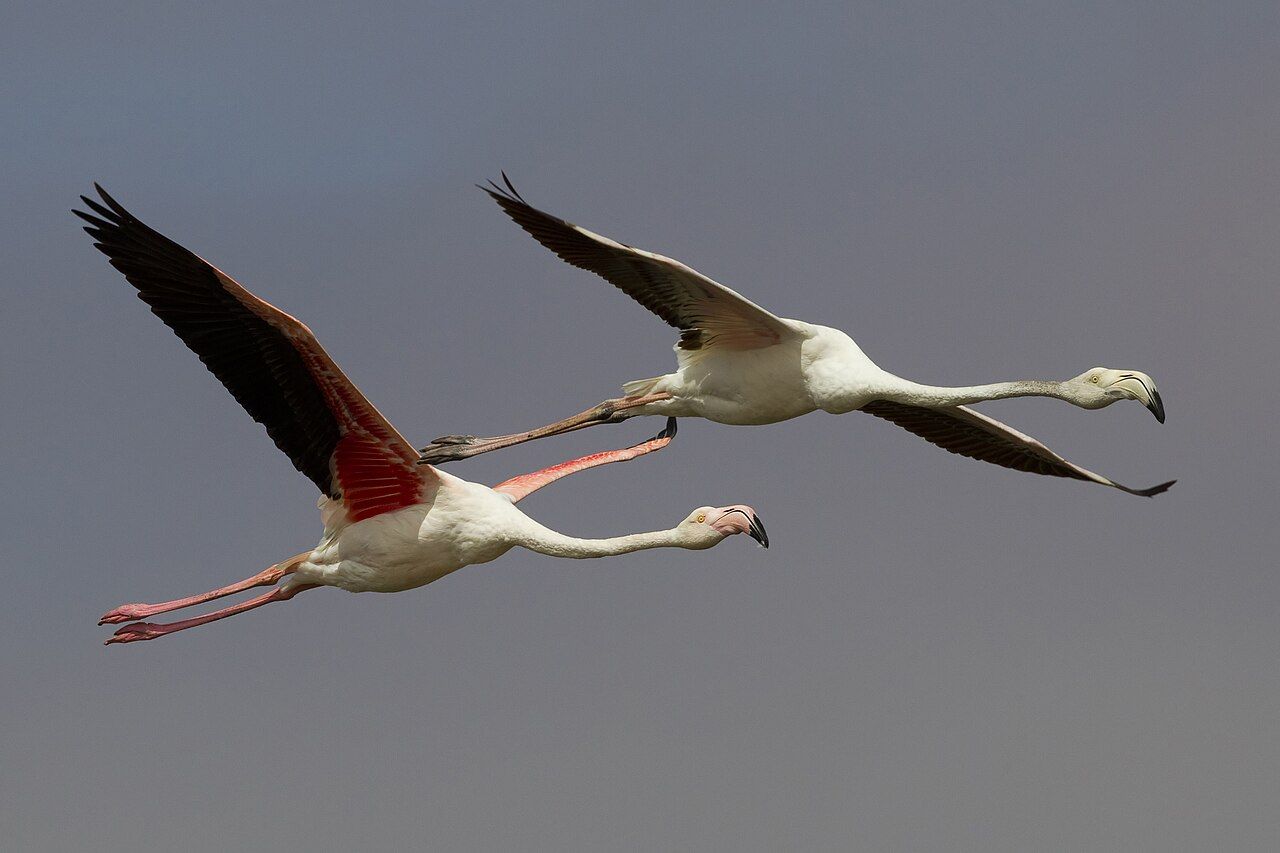bird: (69, 179, 771, 647), (416, 166, 1175, 498)
